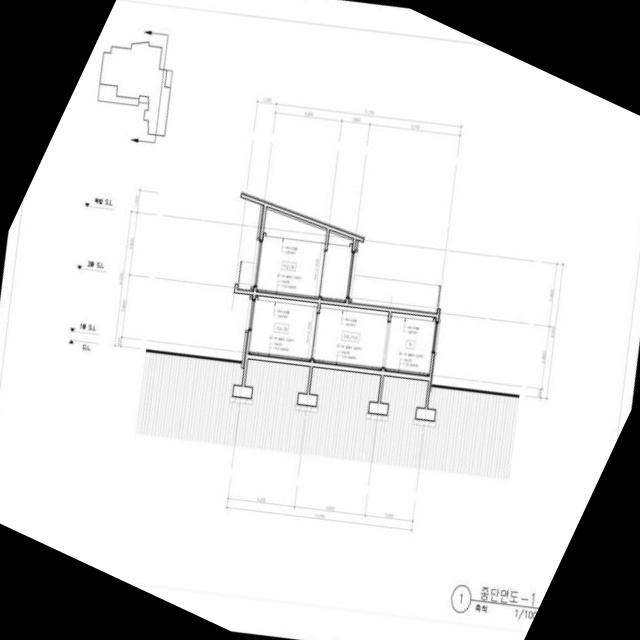background: (0, 0, 640, 640)
space_bedroom: (385, 313, 436, 376)
space_kitchen: (314, 304, 389, 370)
space_living_room: (256, 207, 327, 299), (249, 296, 318, 360), (321, 230, 353, 302)
